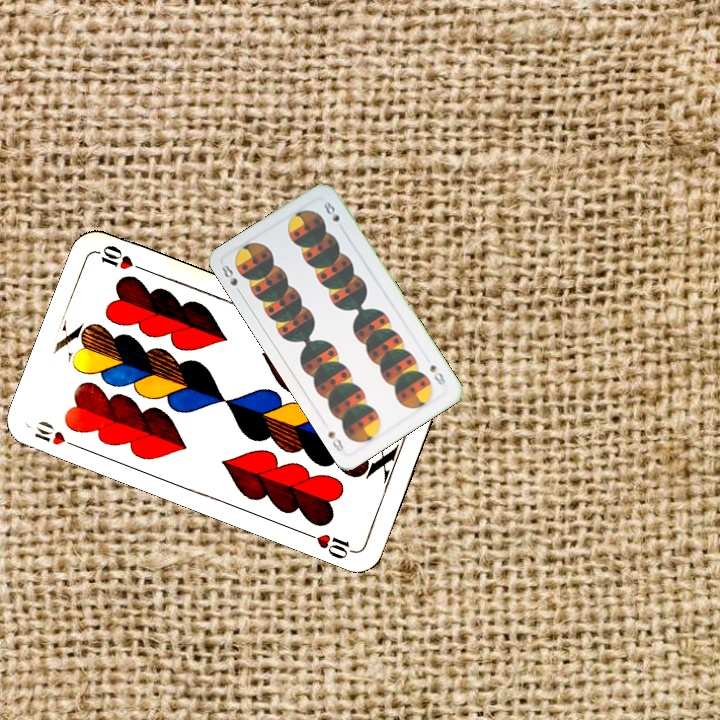H10: (30, 416, 84, 452)
S8: (218, 260, 245, 298), (426, 361, 449, 388)
